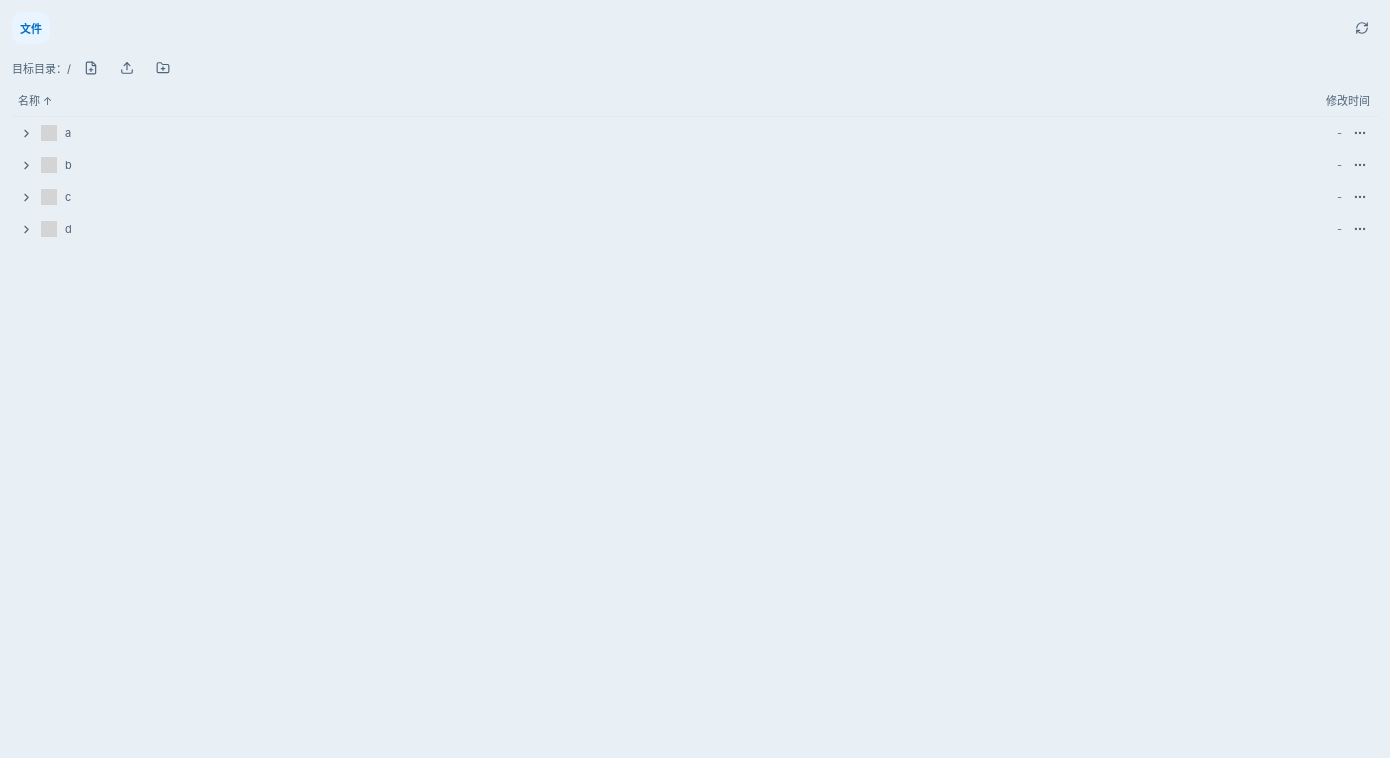
Test: WorkspaceFilesPanel tree windowing › collapses and expands directories in the windowed tree
This screenshot has width=1390, height=758.
Click the button "d" at (26, 229), box [12, 213, 1266, 245]
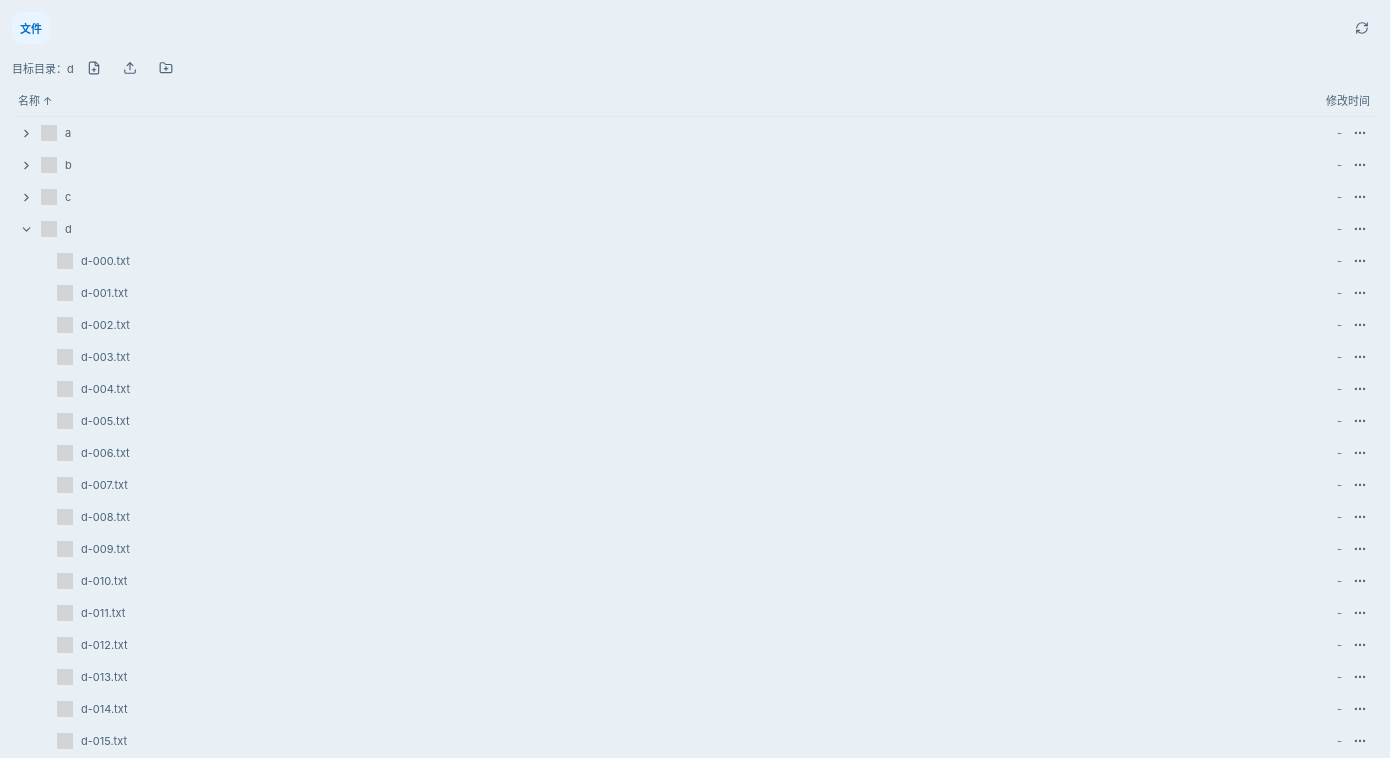
Click the button "c" at (26, 197), box [12, 181, 1266, 213]
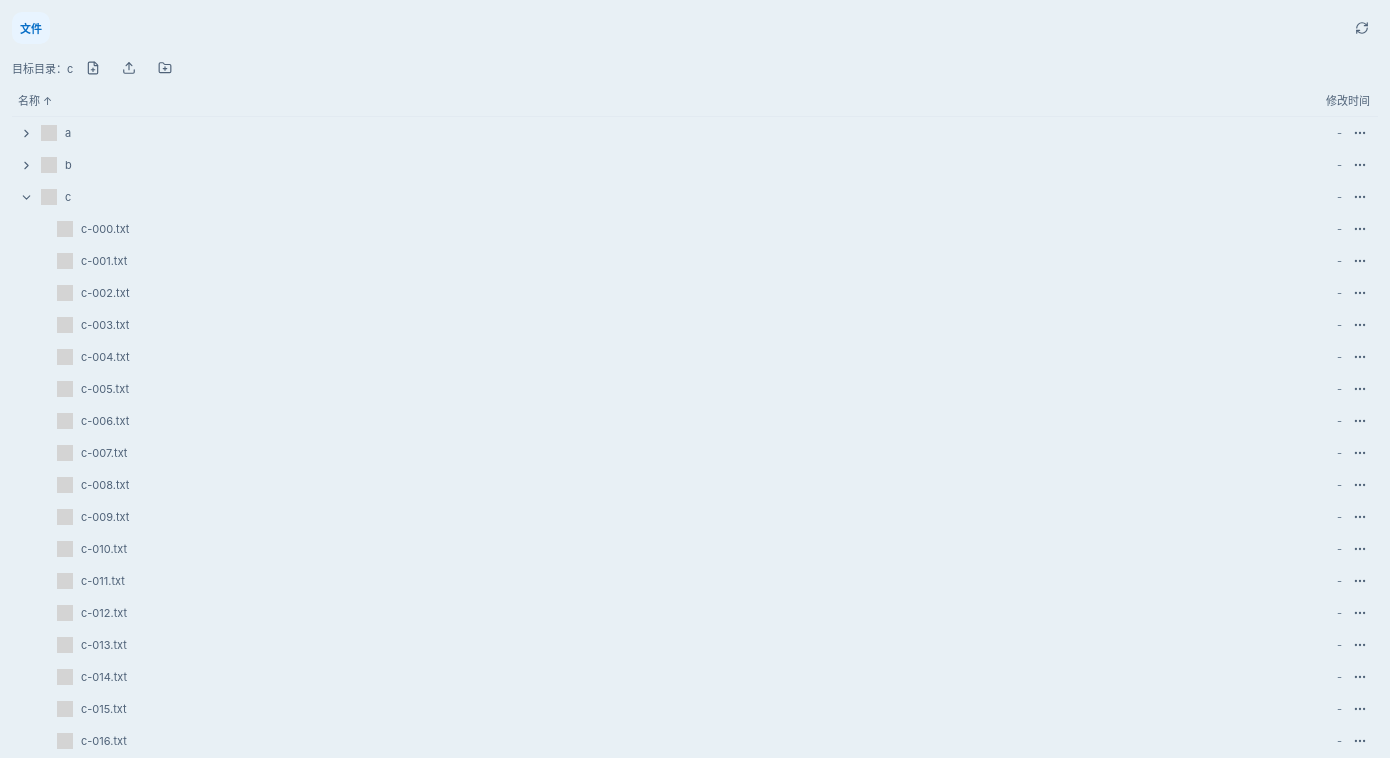
Click the button "b" at (26, 165), box [12, 149, 1266, 181]
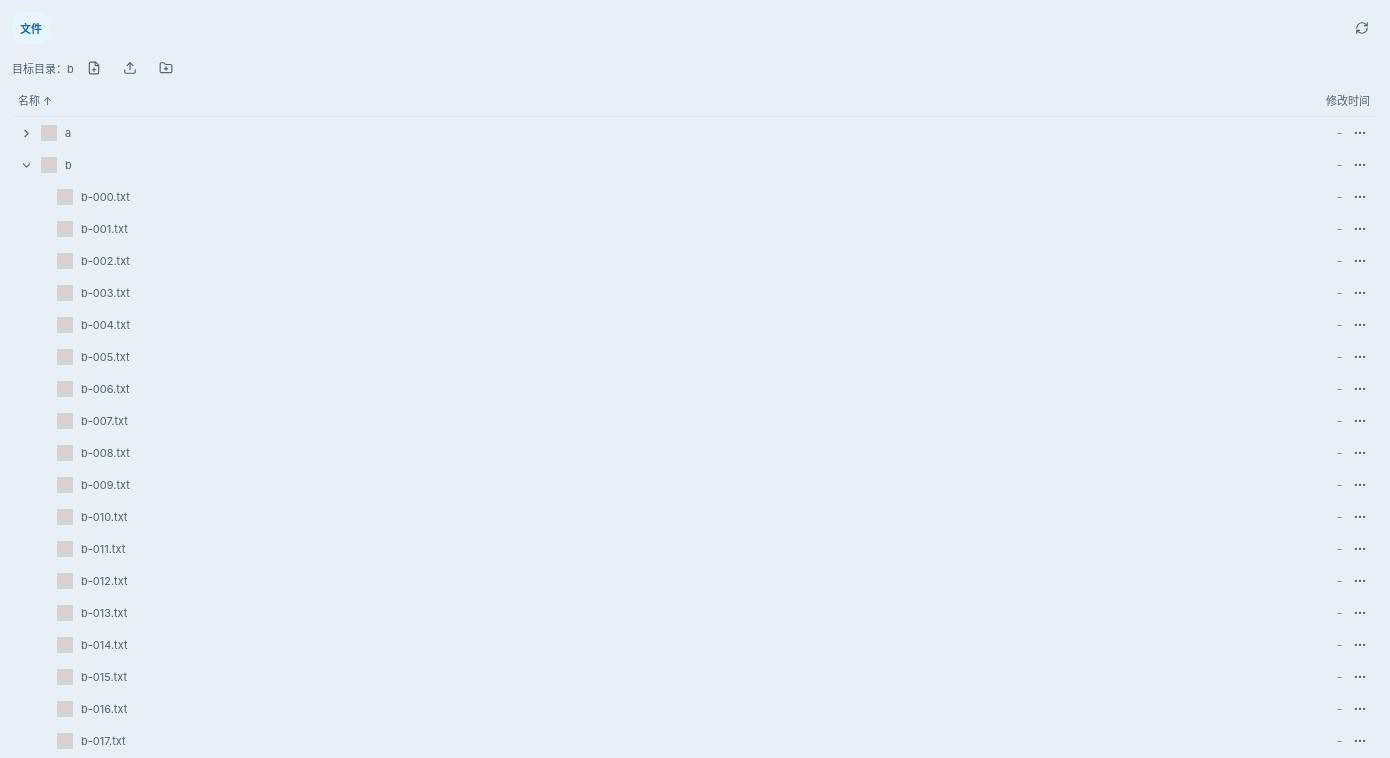
Click the button "a" at (26, 133), box [12, 117, 1266, 149]
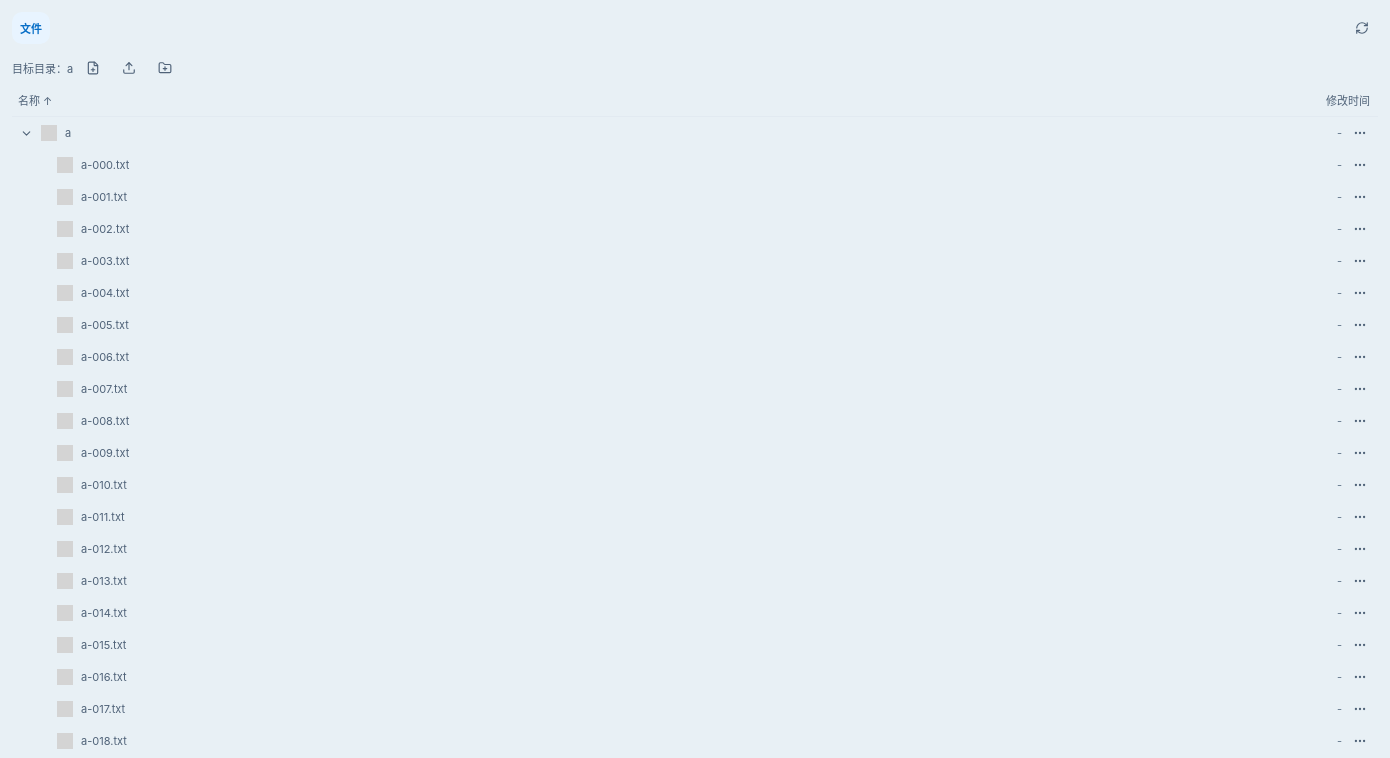
Now the text "a-000.txt" is shown, box [81, 158, 129, 172]
Click the button "a" at (26, 133), box [12, 117, 1266, 149]
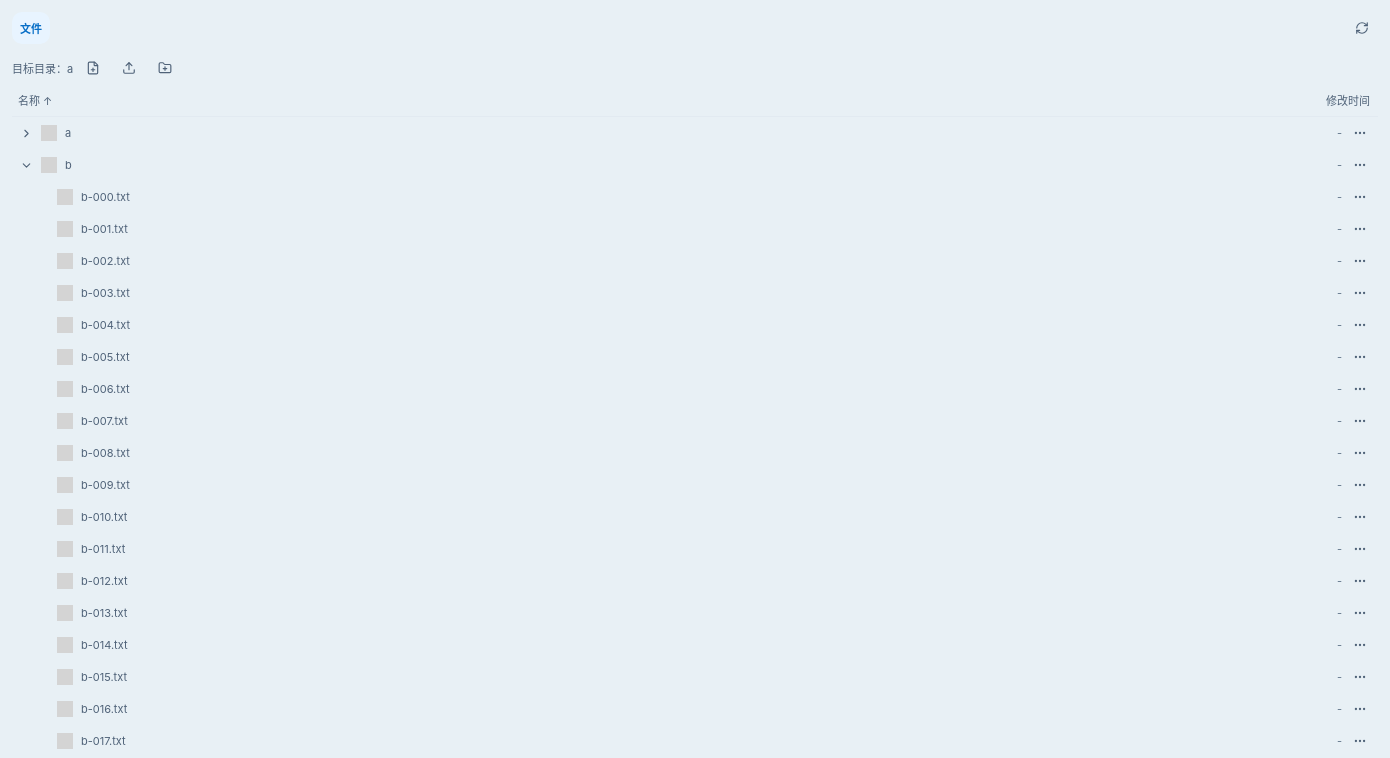
Click the button "a" at (26, 133), box [12, 117, 1266, 149]
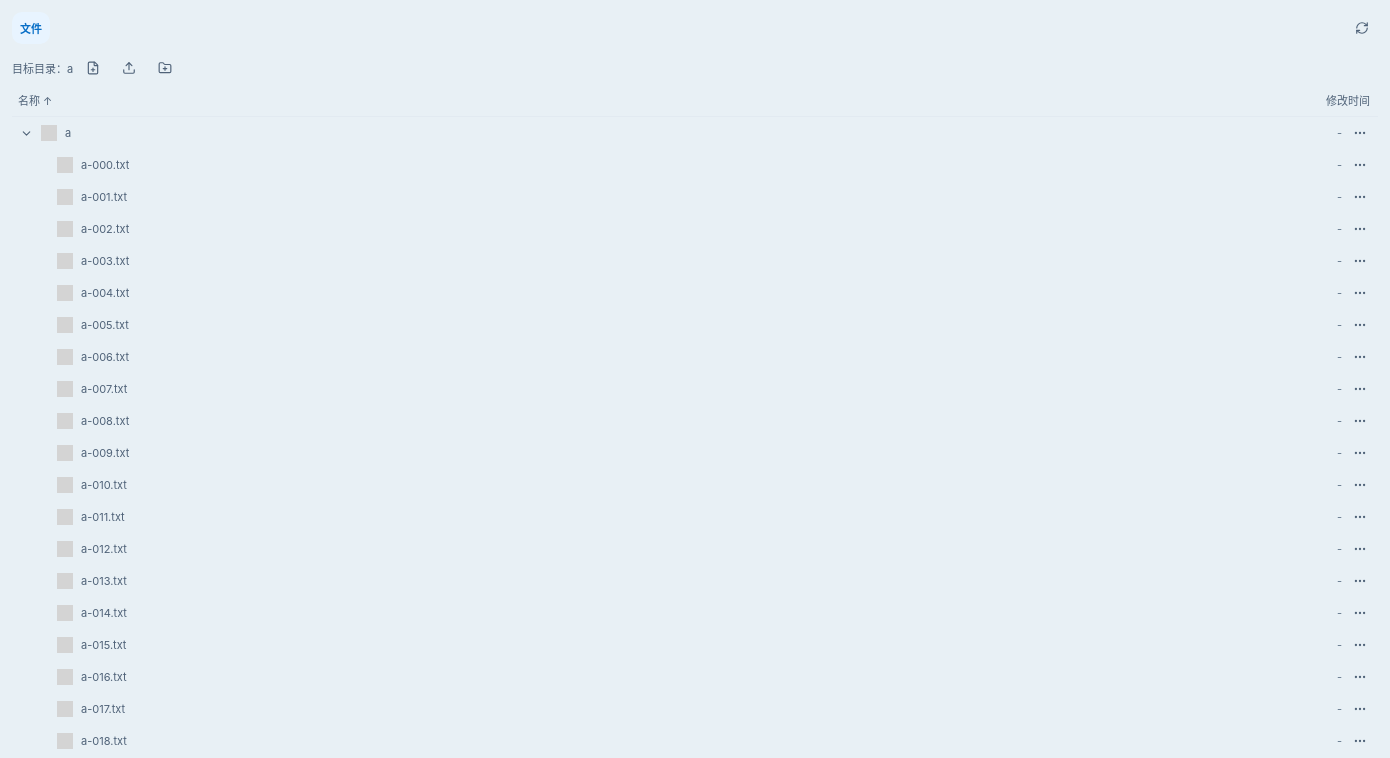
Now the text "a-000.txt" is shown, box [81, 158, 129, 172]
